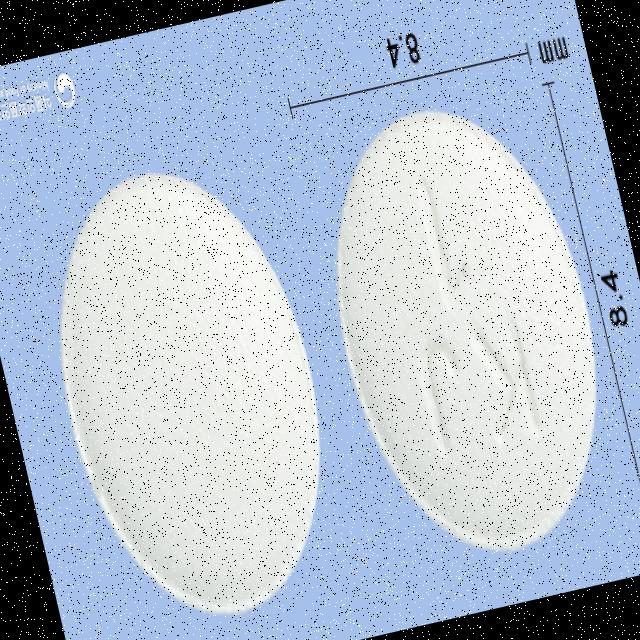Levocacin: (18, 146, 362, 640), (295, 84, 637, 578)
